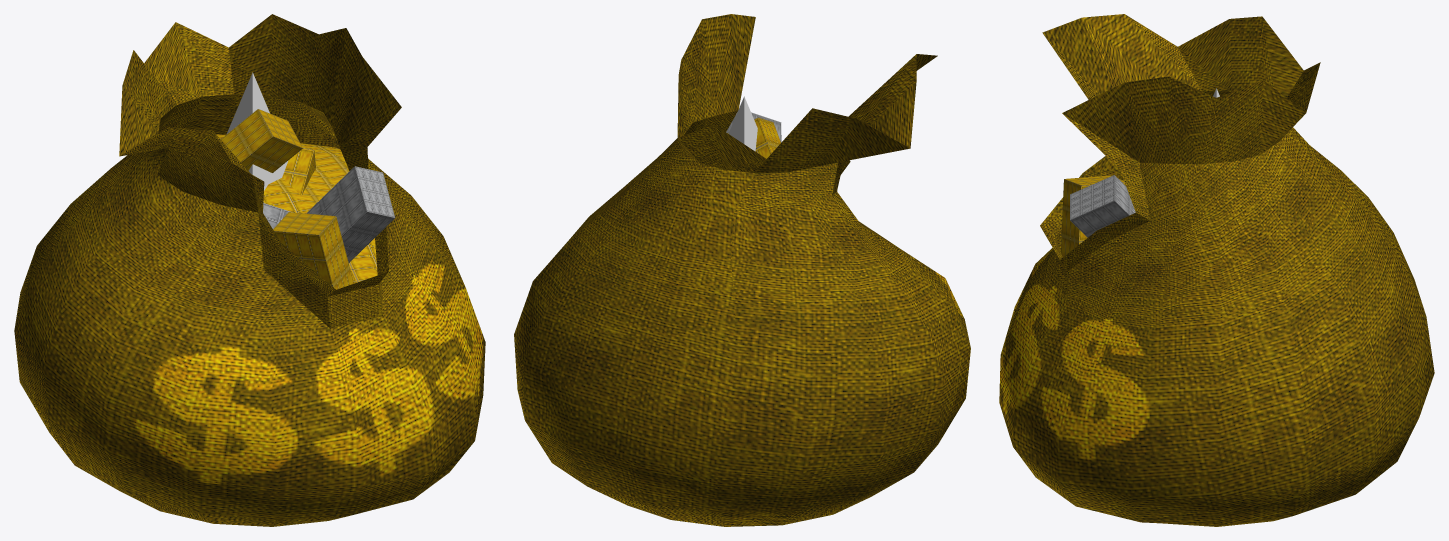
Rendered from gbag01.FBX.
The picture shows the model from 3 angles, left to right: view 1: azimuth 30°, elevation 25°; view 2: azimuth 150°, elevation 25°; view 3: azimuth 270°, elevation 25°; orthographic projection. The views are drawn at different scales.
Visible parts, largest first — view 1: gbag01__2, obj5, obj4, sphere3, hp_light_1; view 2: gbag01__2, hp_light_1, obj5; view 3: gbag01__2, obj4, obj5.
Part boxes in pixels (x1=…): gbag01__2: x1=14, y1=14, x2=485, y2=526; obj5: x1=221, y1=109, x2=353, y2=289; obj4: x1=263, y1=166, x2=395, y2=262; sphere3: x1=216, y1=134, x2=377, y2=283; hp_light_1: x1=226, y1=72, x2=287, y2=190; gbag01__2: x1=514, y1=14, x2=970, y2=526; hp_light_1: x1=728, y1=96, x2=757, y2=151; obj5: x1=728, y1=117, x2=780, y2=158; gbag01__2: x1=999, y1=14, x2=1434, y2=526; obj4: x1=1070, y1=175, x2=1135, y2=237; obj5: x1=1061, y1=175, x2=1125, y2=256.
Size of the model in its own units: 2.01 by 1.9 by 2.05.
